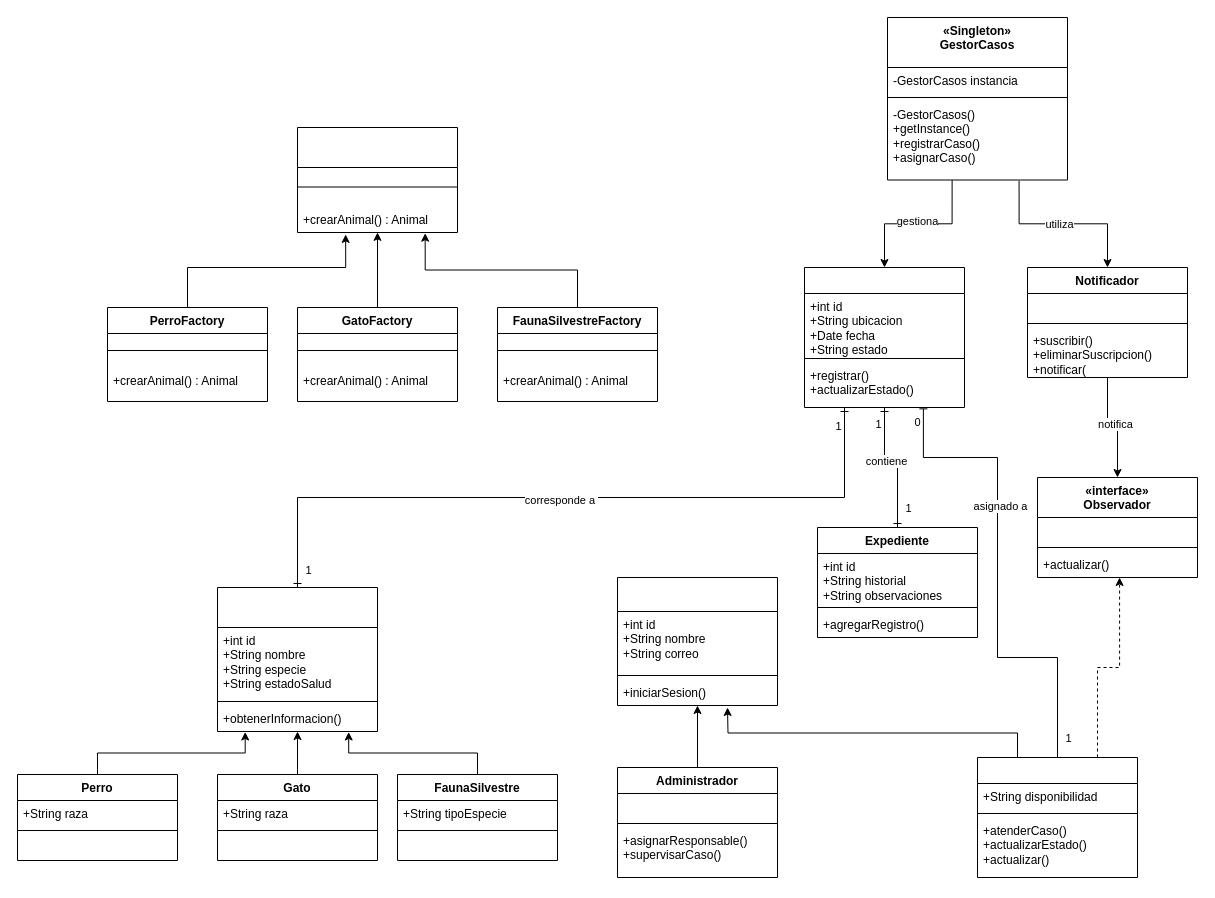
This 1215x898 diagram has some shape labels left out. The box of each missing label's shape, as (x1, y1, x2, y2) in pixels:
CasoRescate: (804, 266, 964, 408)
Voluntario: (976, 756, 1138, 878)
«abstract» Animal: (216, 586, 378, 732)
«abstract» Usuario: (616, 576, 778, 706)
«Creator» AnimalFactory: (296, 126, 458, 232)
